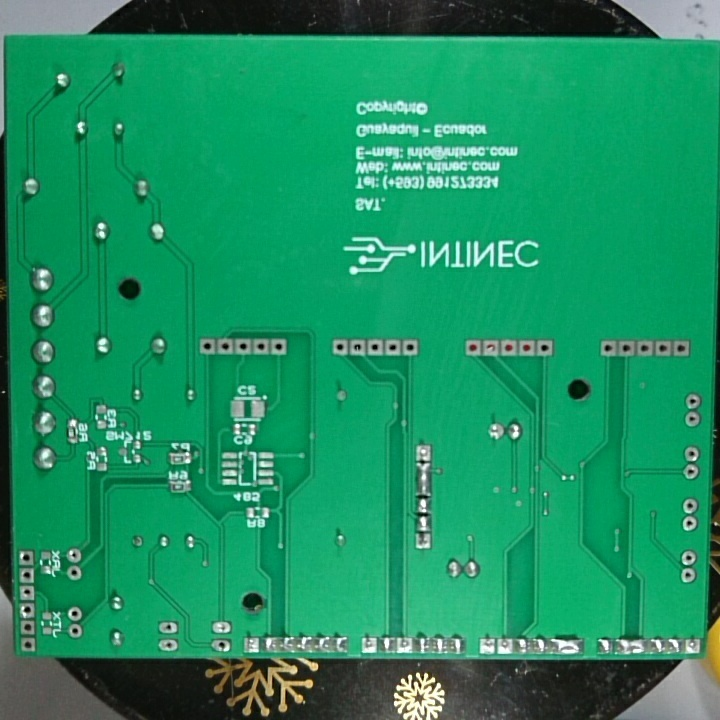F: (485, 418, 504, 446), (413, 531, 436, 554), (250, 335, 270, 360), (413, 441, 434, 462), (195, 335, 215, 357), (402, 338, 422, 360), (500, 337, 519, 360), (156, 619, 180, 637), (18, 564, 37, 586), (65, 563, 87, 582), (331, 335, 348, 359), (394, 635, 414, 655), (128, 532, 147, 553), (235, 337, 253, 359), (270, 337, 288, 359), (674, 338, 692, 360), (681, 443, 699, 465), (680, 514, 698, 536), (496, 632, 513, 655), (210, 637, 233, 654), (679, 565, 695, 589), (360, 634, 379, 654), (16, 600, 37, 618), (156, 638, 181, 653), (384, 338, 401, 360), (367, 337, 383, 360), (243, 632, 259, 655), (598, 339, 617, 358), (654, 339, 673, 358), (619, 336, 634, 360), (681, 496, 699, 516), (636, 339, 653, 360), (333, 387, 350, 408), (517, 338, 533, 360), (684, 390, 700, 412), (216, 336, 234, 355), (479, 635, 496, 655), (465, 339, 481, 360), (67, 546, 83, 567), (350, 337, 365, 359), (19, 617, 37, 635), (19, 547, 36, 566), (19, 582, 36, 601), (683, 409, 699, 429), (213, 620, 233, 636), (483, 336, 496, 360), (682, 463, 699, 481), (679, 549, 696, 567), (21, 636, 40, 652), (67, 604, 83, 623), (536, 338, 549, 360), (68, 621, 84, 638), (686, 635, 698, 655)
P: (552, 638, 582, 657), (416, 463, 432, 497), (618, 638, 646, 657)
